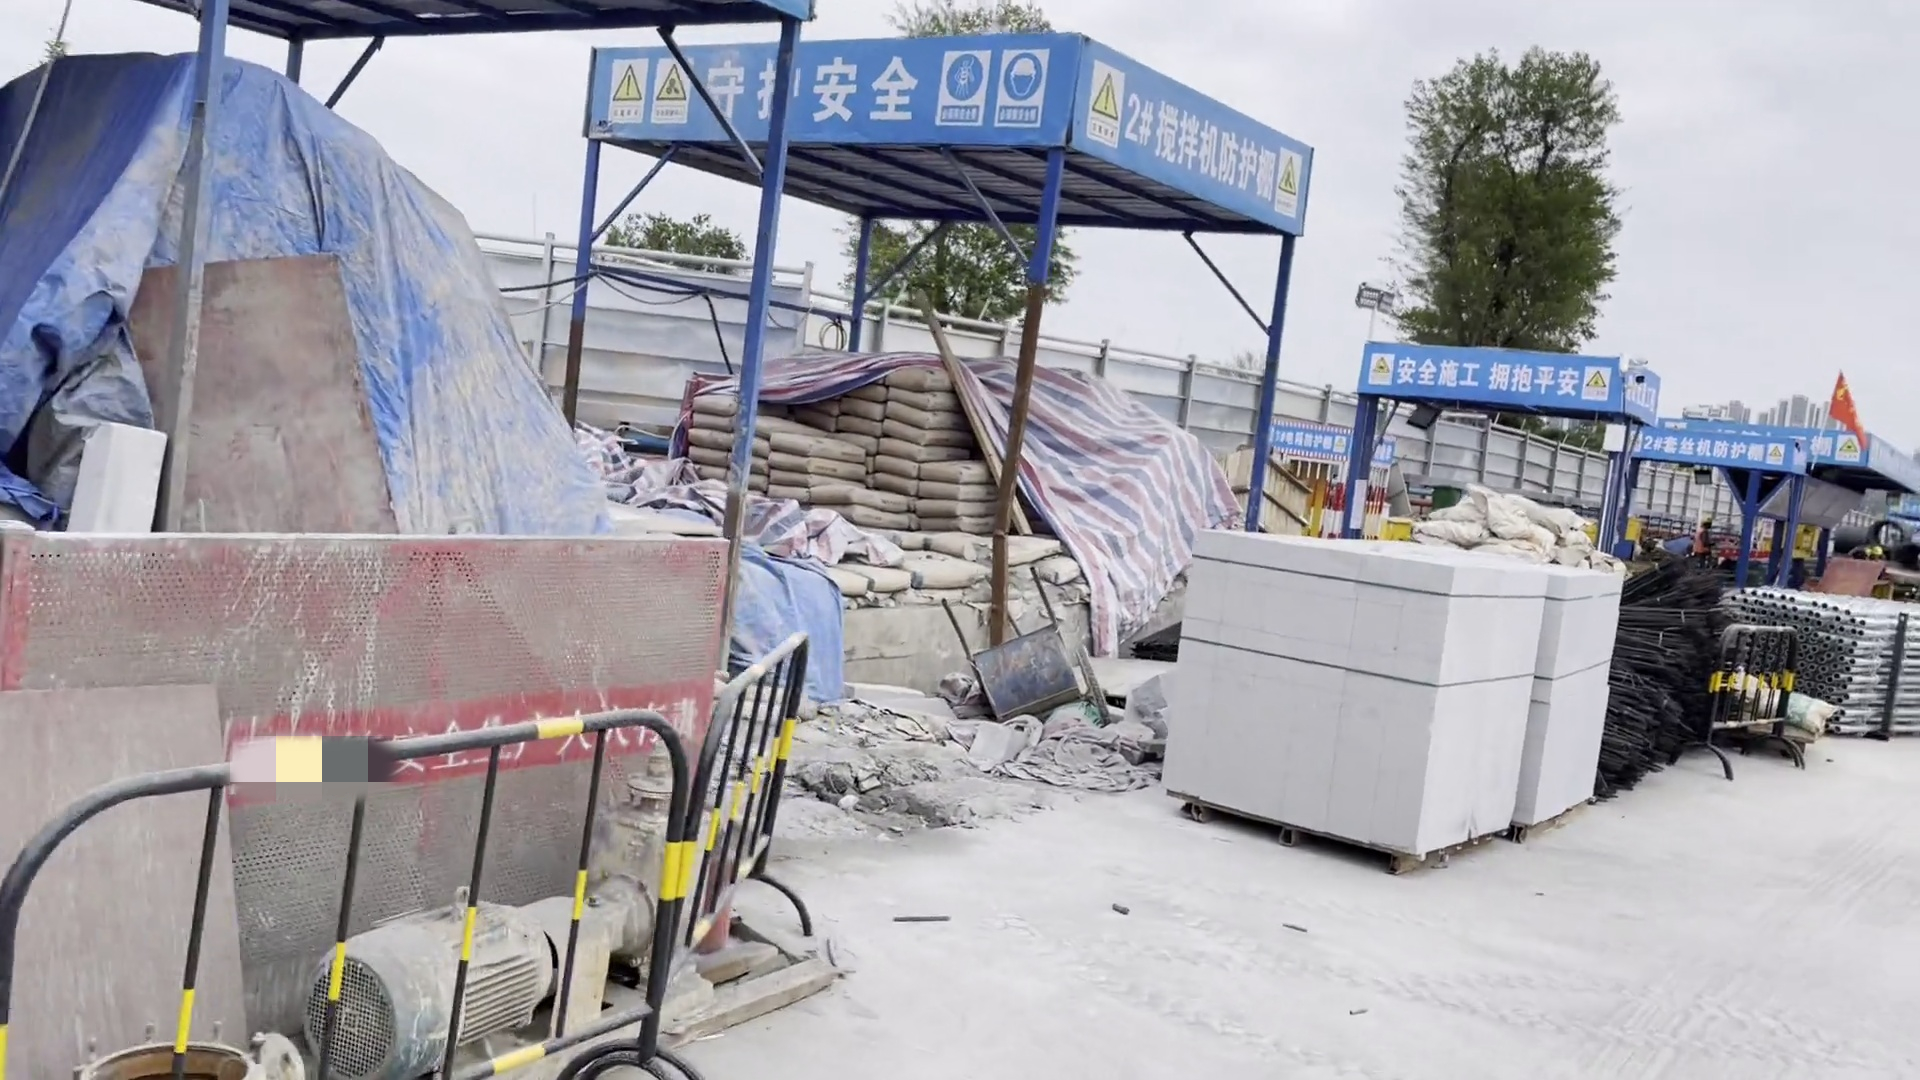brick: (1156, 526, 1625, 864)
scaffold: (1733, 574, 1920, 745)
slogan: (687, 50, 931, 138), (1396, 357, 1590, 392)
